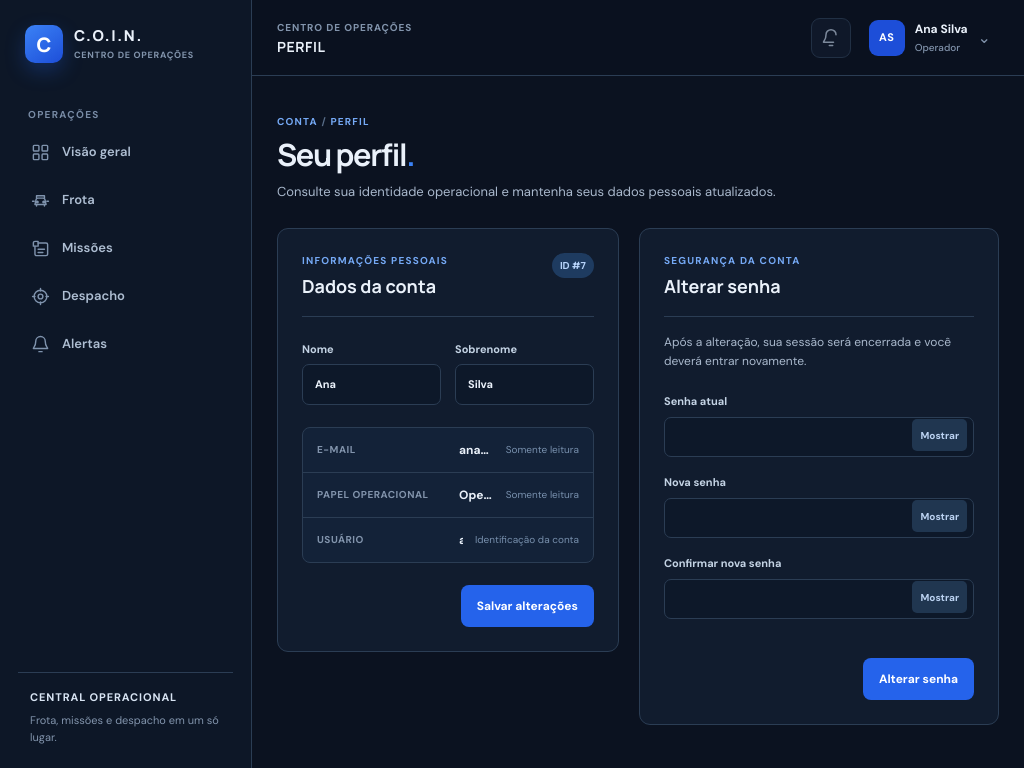
perfil › apresenta erro estruturado da API sem dados sensíveis
The width and height of the screenshot is (1024, 768).
Click the button "Salvar alterações" at (527, 606), box [461, 585, 594, 627]
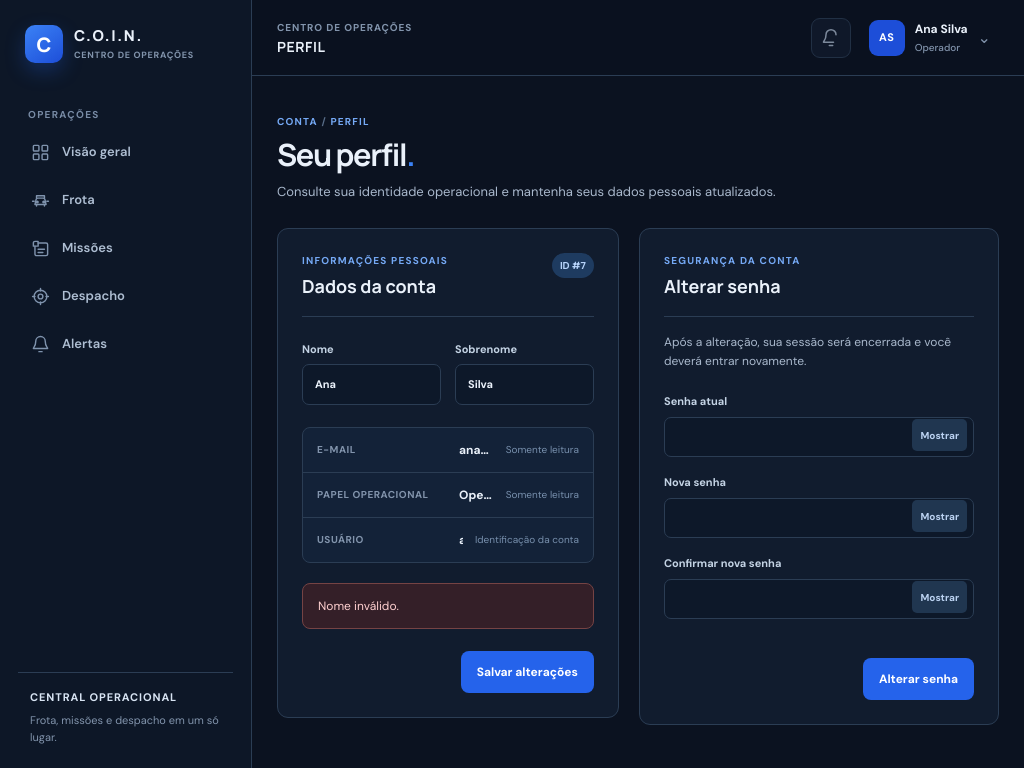
Check: the message reads "Nome inválido.", box [318, 598, 399, 614]
